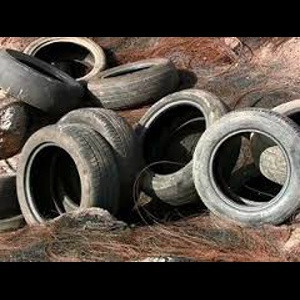tire: (133, 88, 241, 217), (16, 123, 119, 247), (193, 109, 300, 227), (55, 107, 139, 220), (1, 45, 88, 116), (19, 38, 109, 102), (87, 57, 179, 110)
